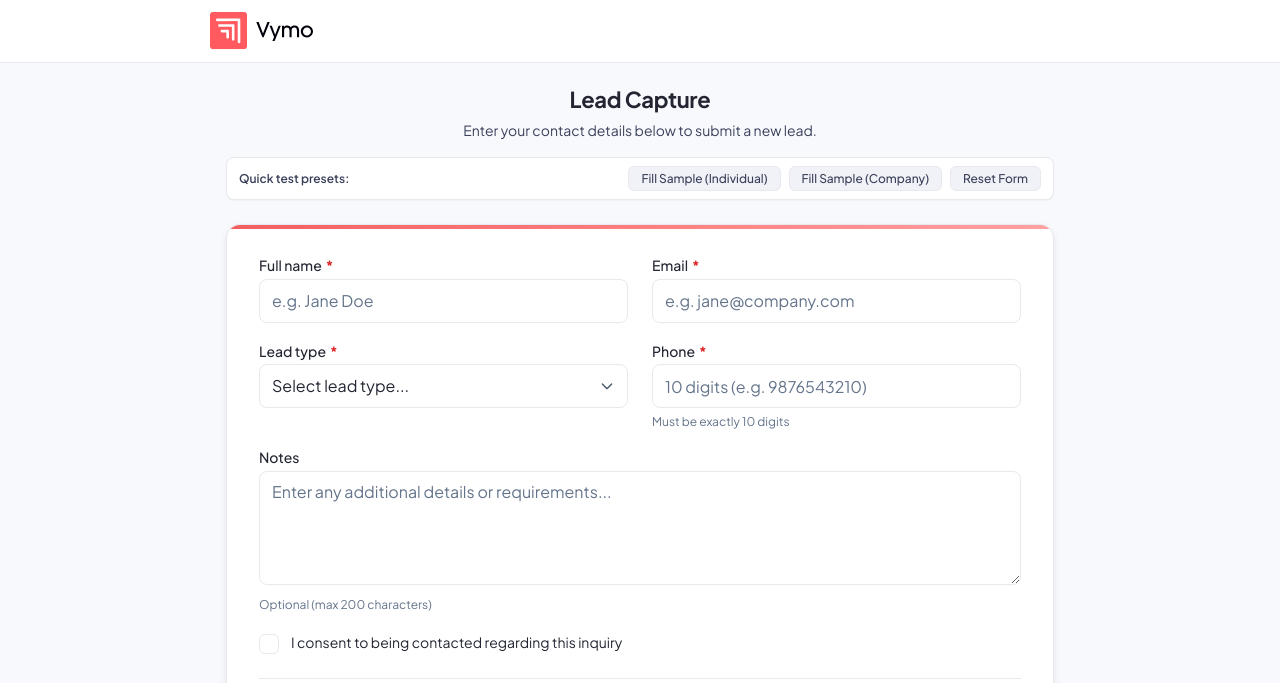
it: LeadCapturePage › dynamically displays Company Name when Lead type is changed to Company without page reload
Expected: the field labelled "company name" is not shown
# Select 'Company'
Select "Company" in the dropdown labelled "Lead type*": (444, 386) [259, 364, 628, 408]
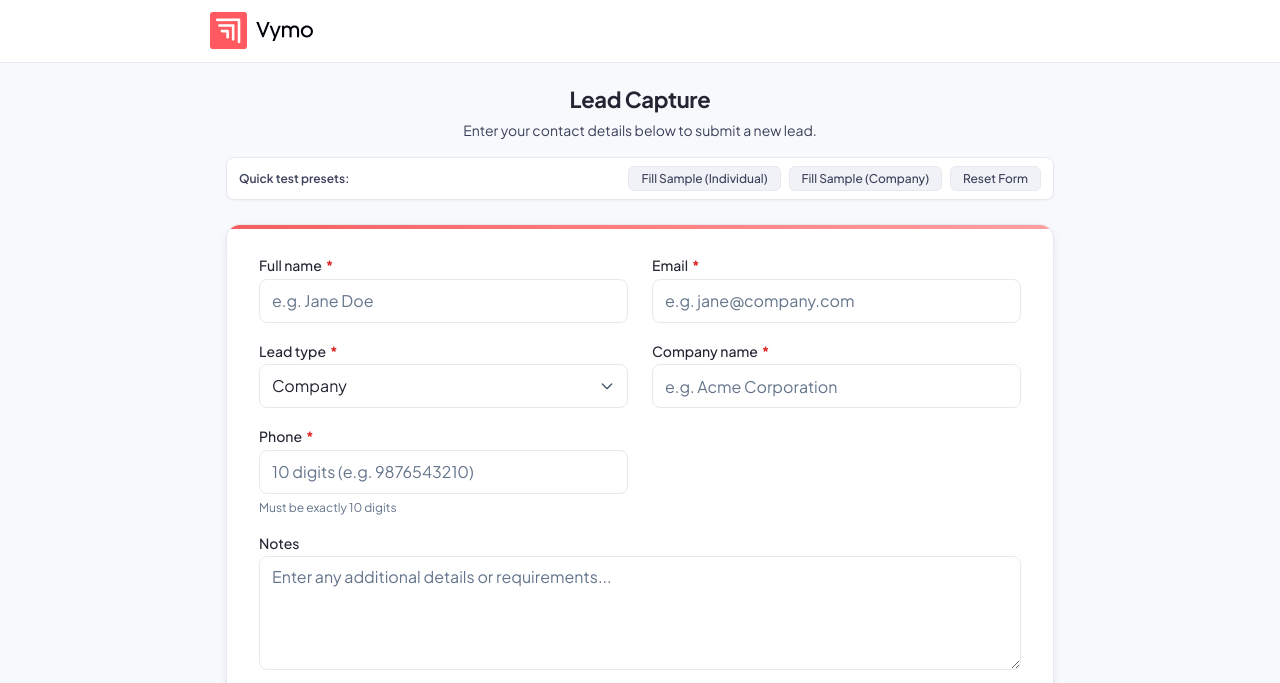
Now the field labelled "Company name*" is shown, box [652, 364, 1021, 408]
# Switch back to 'Individual'
Select "Individual" in the dropdown labelled "Lead type*": (444, 386) [259, 364, 628, 408]
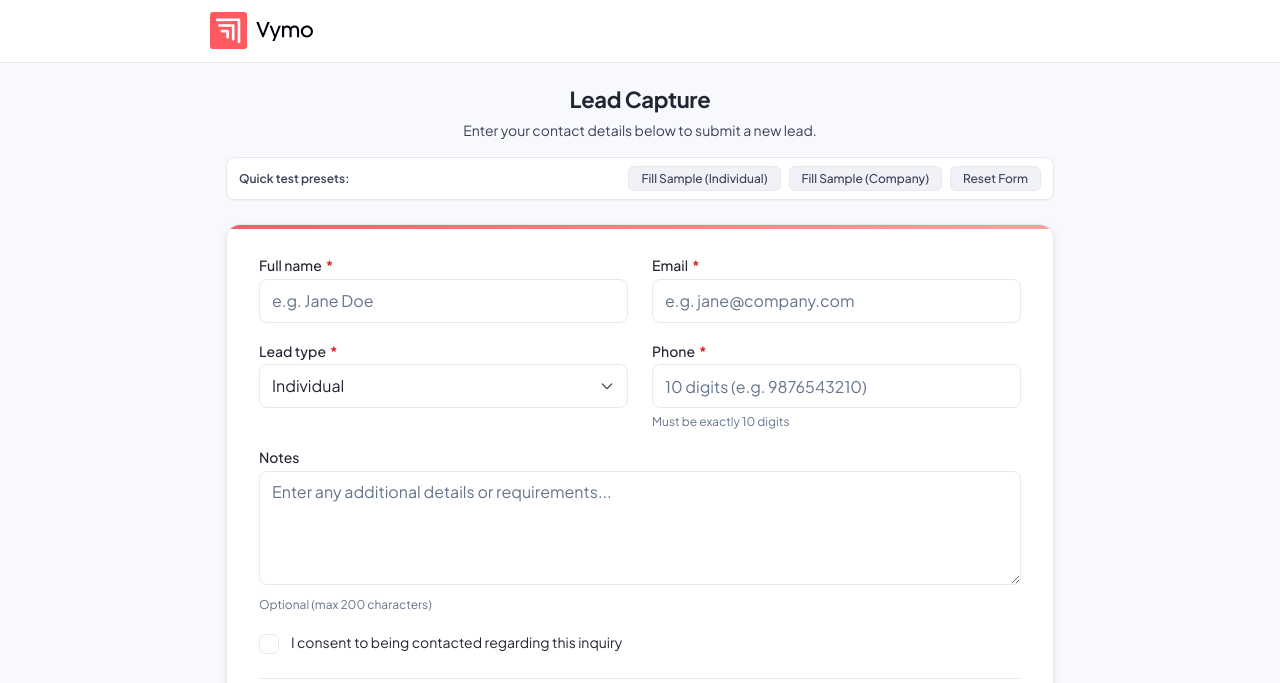
Now the label labelled "Company name" is gone
